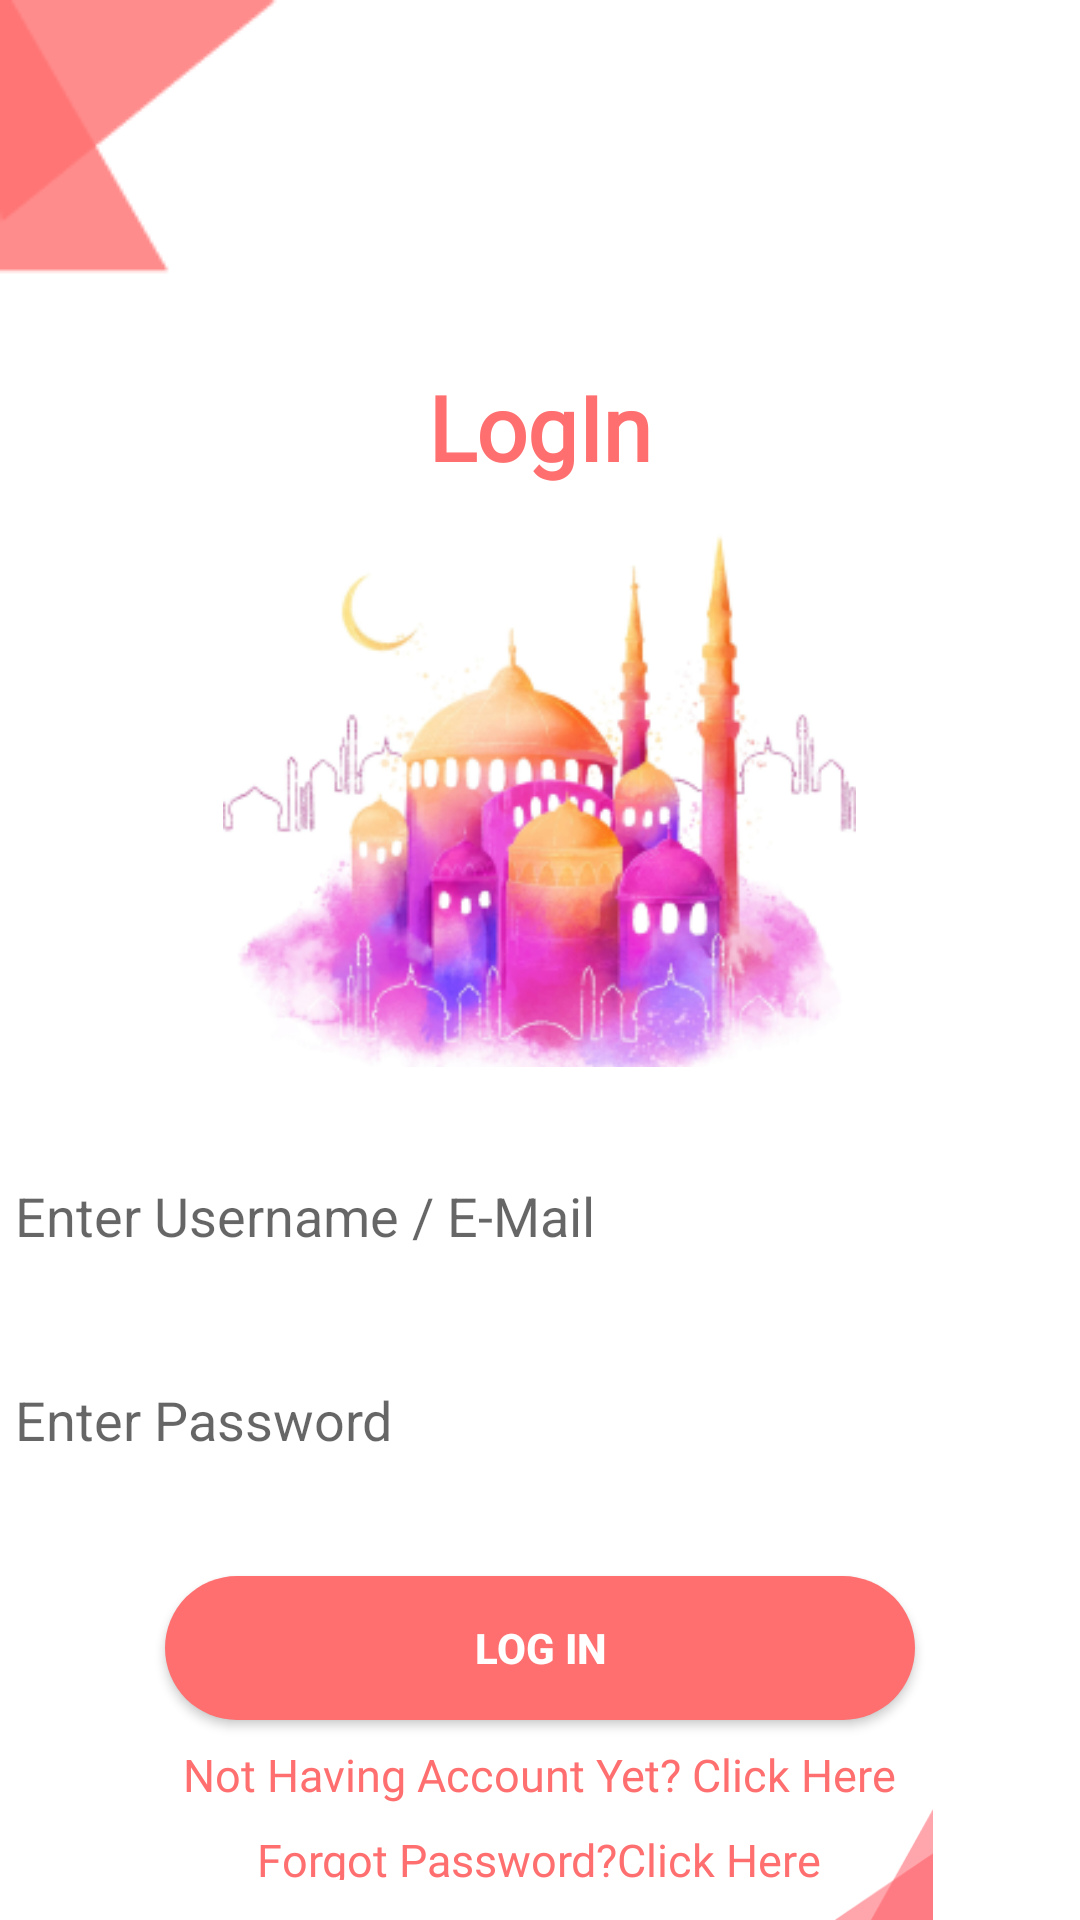

Screen size 1080x1920. Icon name, then its center in pixels as (x=x, y=y):
shapetop: (x=137, y=136)
